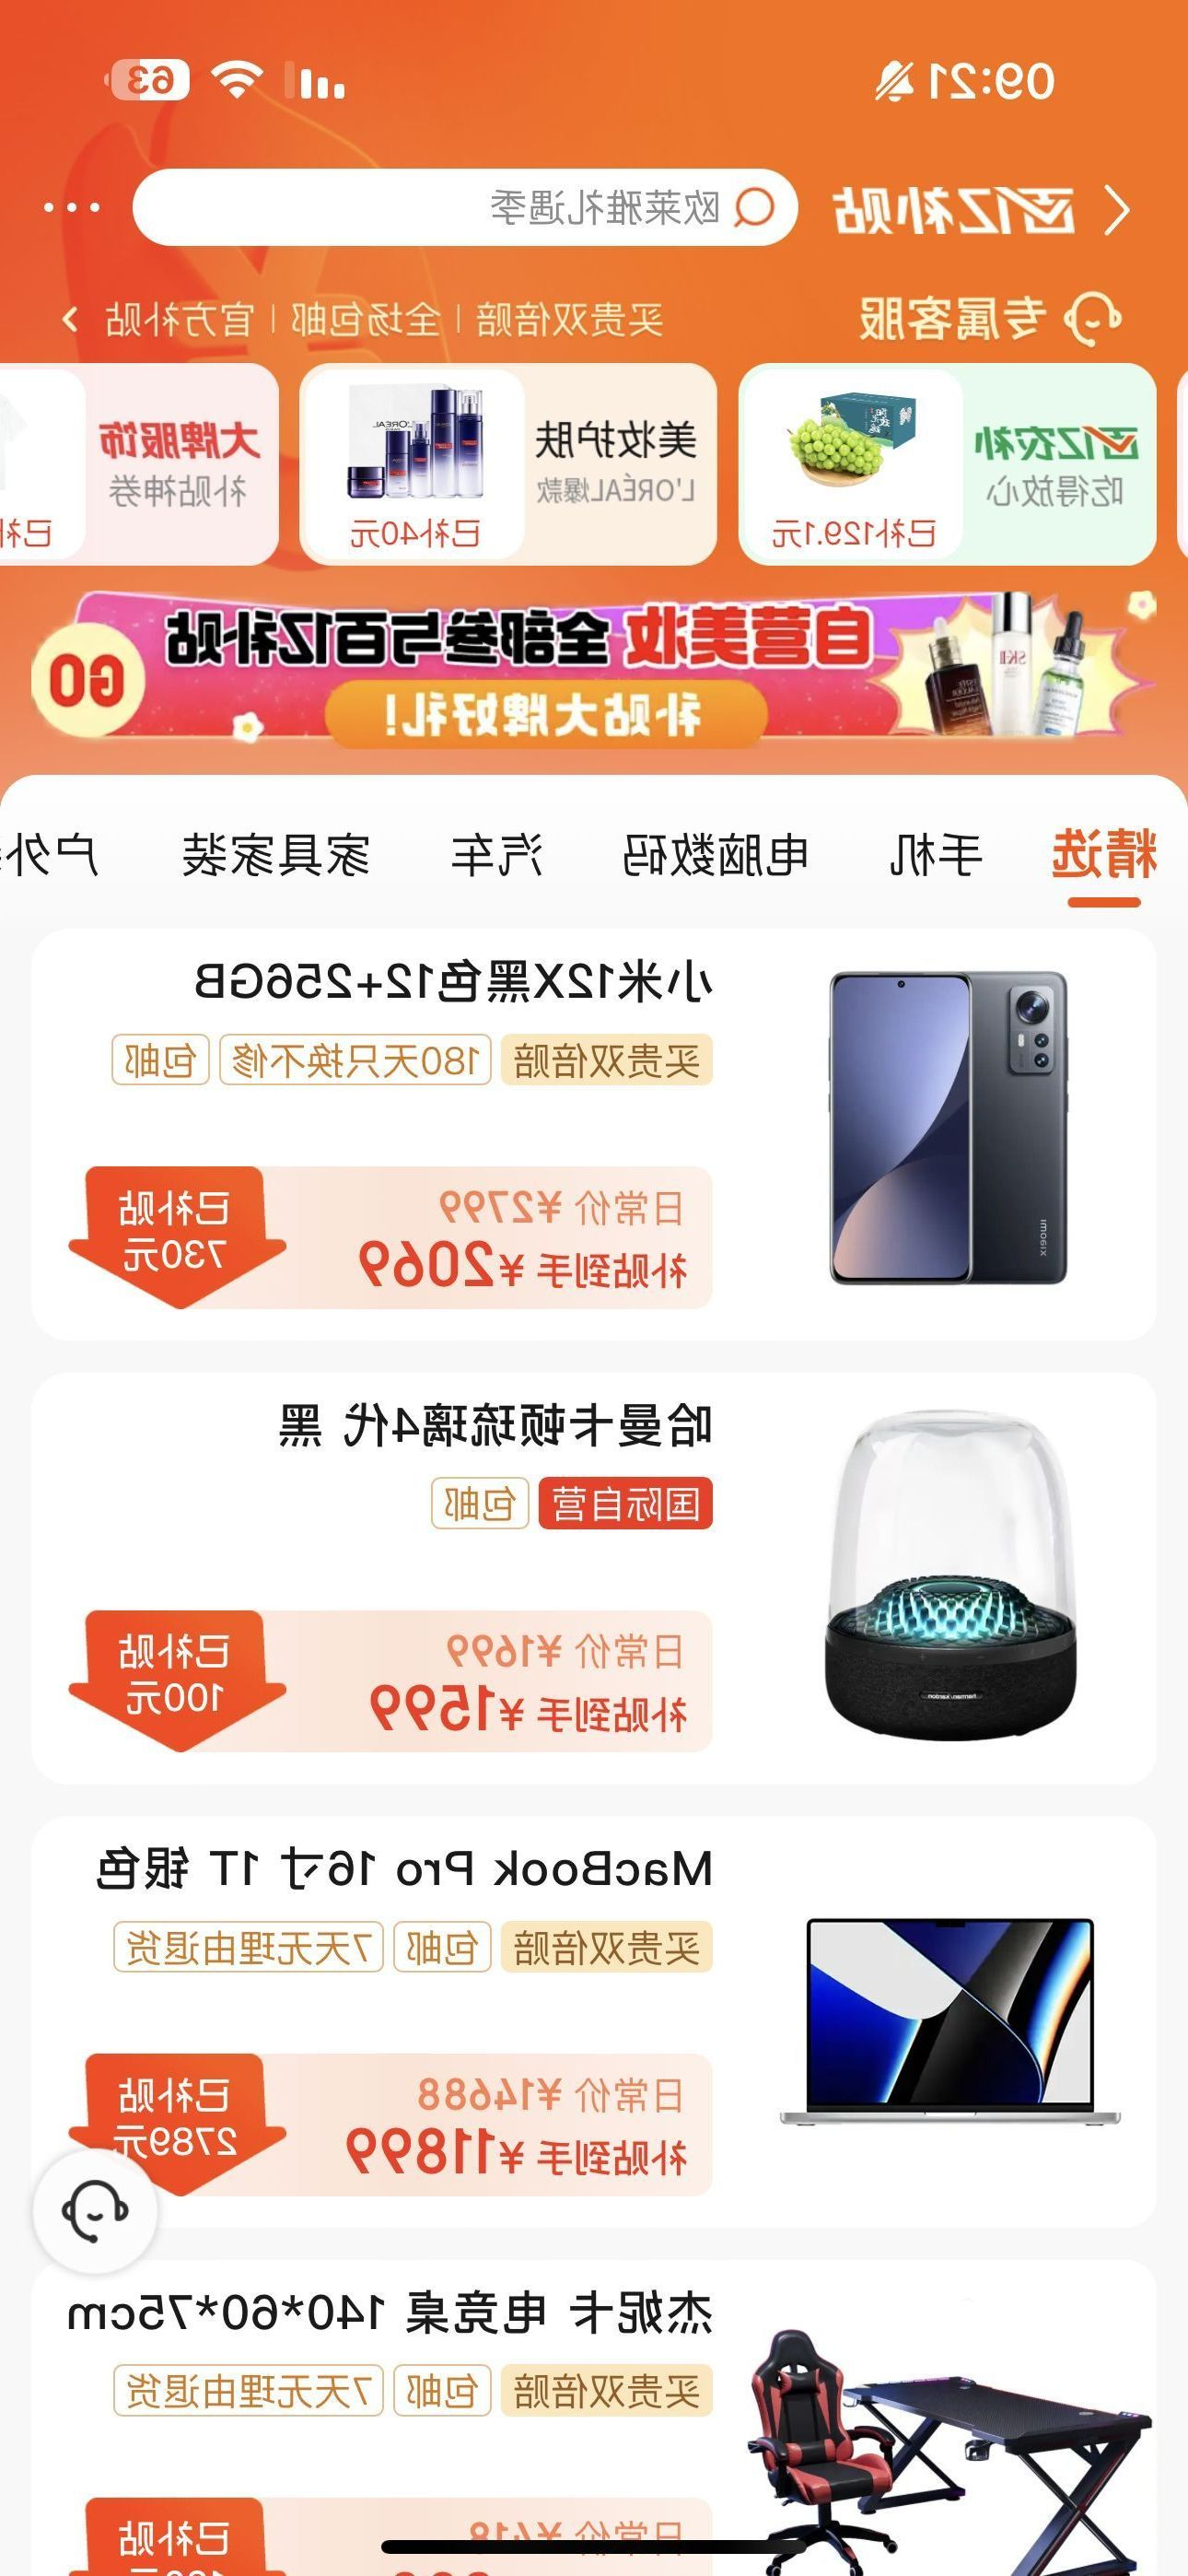item: (3, 912, 1183, 1355), (2, 1807, 1185, 2249), (5, 1367, 1185, 1802)
op_bar: (2, 138, 1178, 266)
seckill: (2, 271, 1181, 775)
